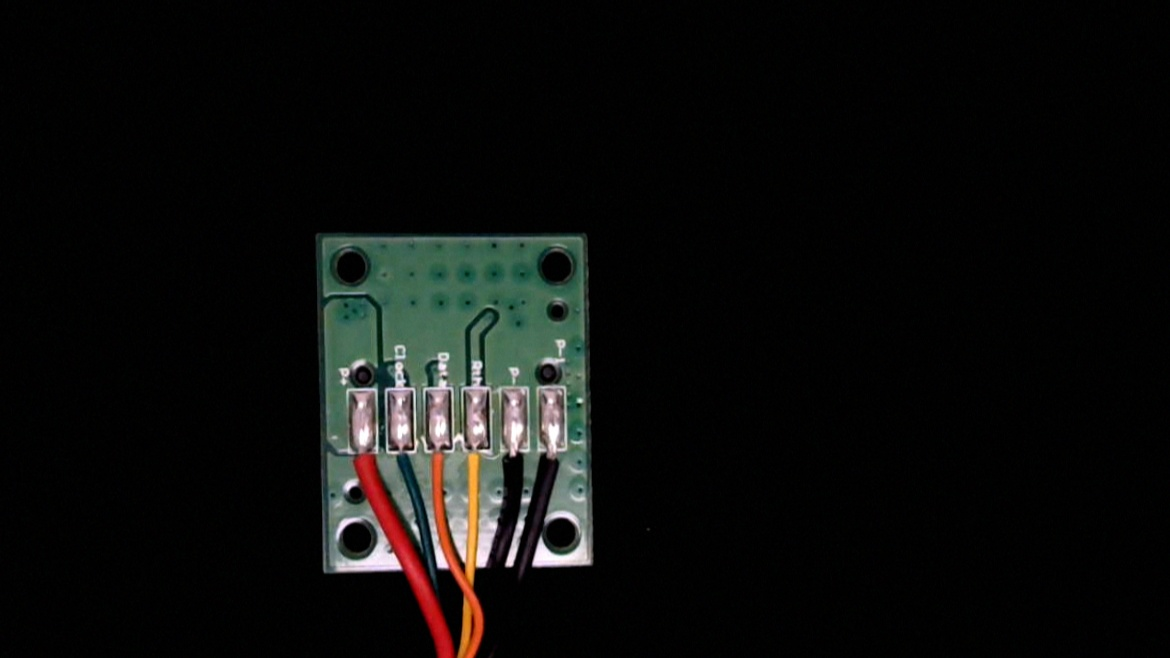Black: (500, 433, 531, 494)
Black1: (538, 430, 570, 498)
Green: (388, 435, 415, 495)
Orange: (424, 433, 454, 497)
Red: (347, 434, 381, 506)
Yellow: (461, 433, 494, 508)
